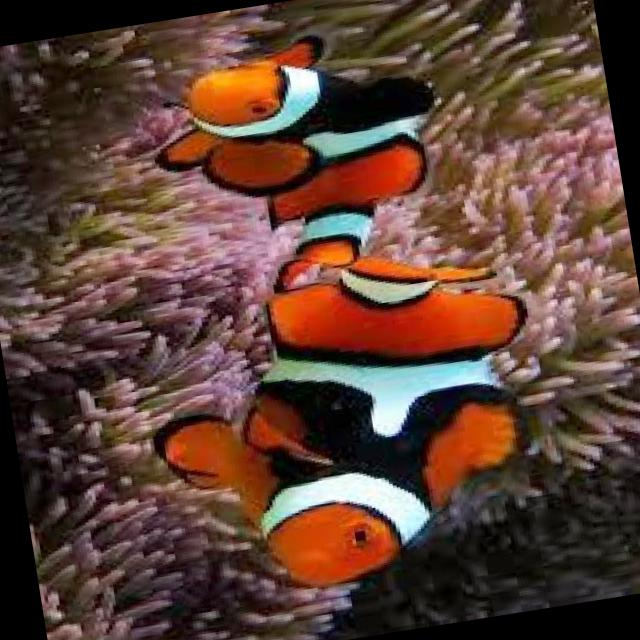ClownFish: (131, 231, 611, 608), (140, 10, 476, 282)
